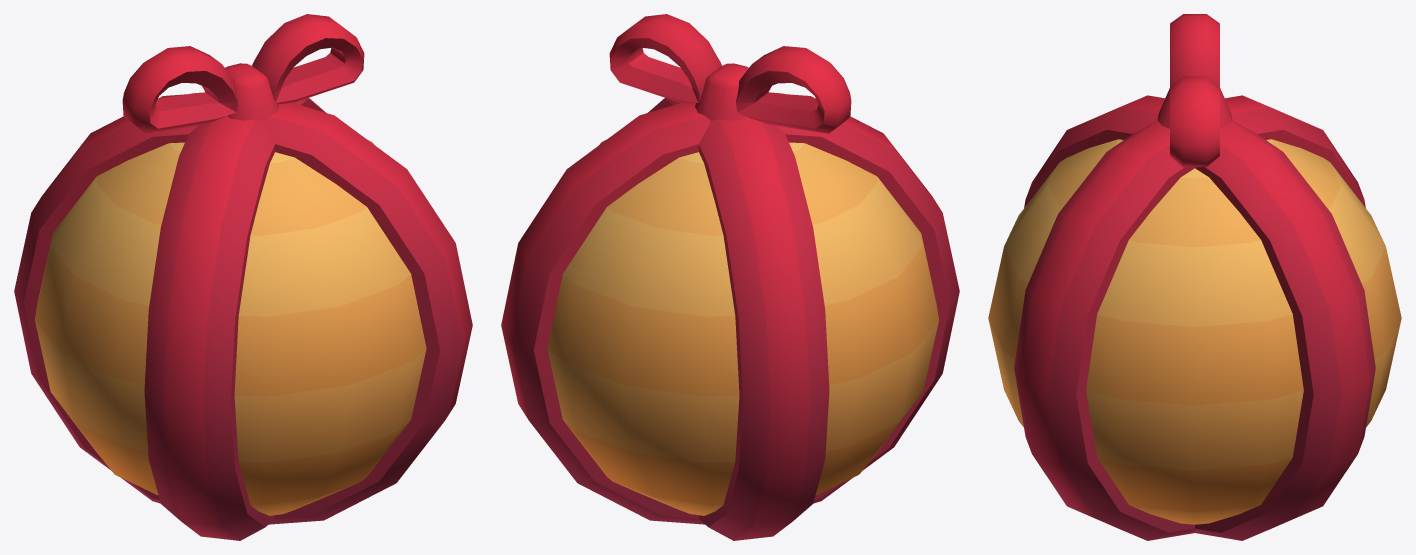
Rendered from present_sphere_B_yellow.obj.
3 views of the same model, side by side, from view 1: azimuth 30°, elevation 25°; view 2: azimuth 150°, elevation 25°; view 3: azimuth 270°, elevation 25° (orthographic).
Parts seen in each view (by area): view 1: present_sphere_B_yellow; view 2: present_sphere_B_yellow; view 3: present_sphere_B_yellow.
Part boxes in pixels (<box>): present_sphere_B_yellow: <box>14,14,472,540</box>; present_sphere_B_yellow: <box>501,14,959,540</box>; present_sphere_B_yellow: <box>988,14,1401,540</box>.
Size of the model in its own units: 0.7933 by 1 by 0.7933.
1 material, 1 textured.
